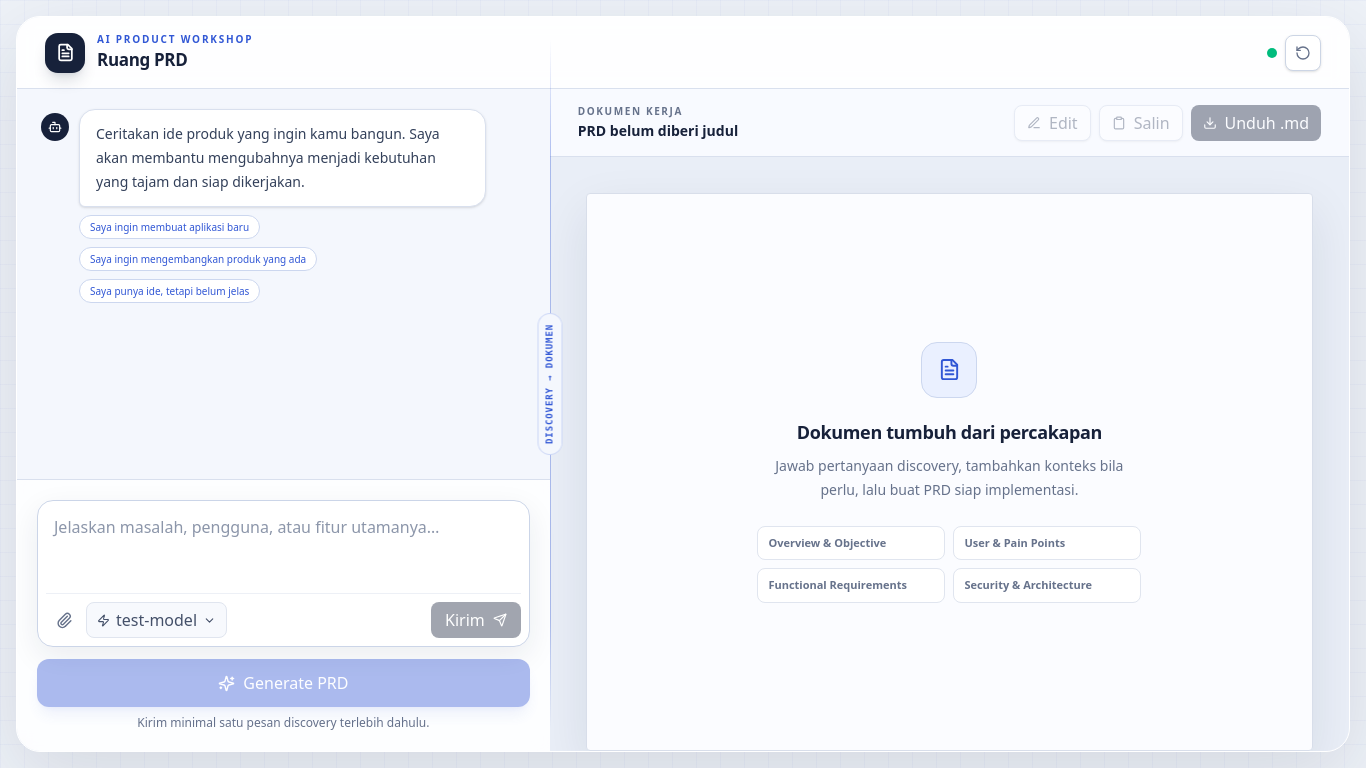
Test case: Ruang PRD › memindahkan respons PRD dari chat ke panel dokumen
The width and height of the screenshot is (1366, 768).
Type "Buatkan PRD sekarang" into the text box named "Pesan discovery" at (283,551), box [46,509,521,593]
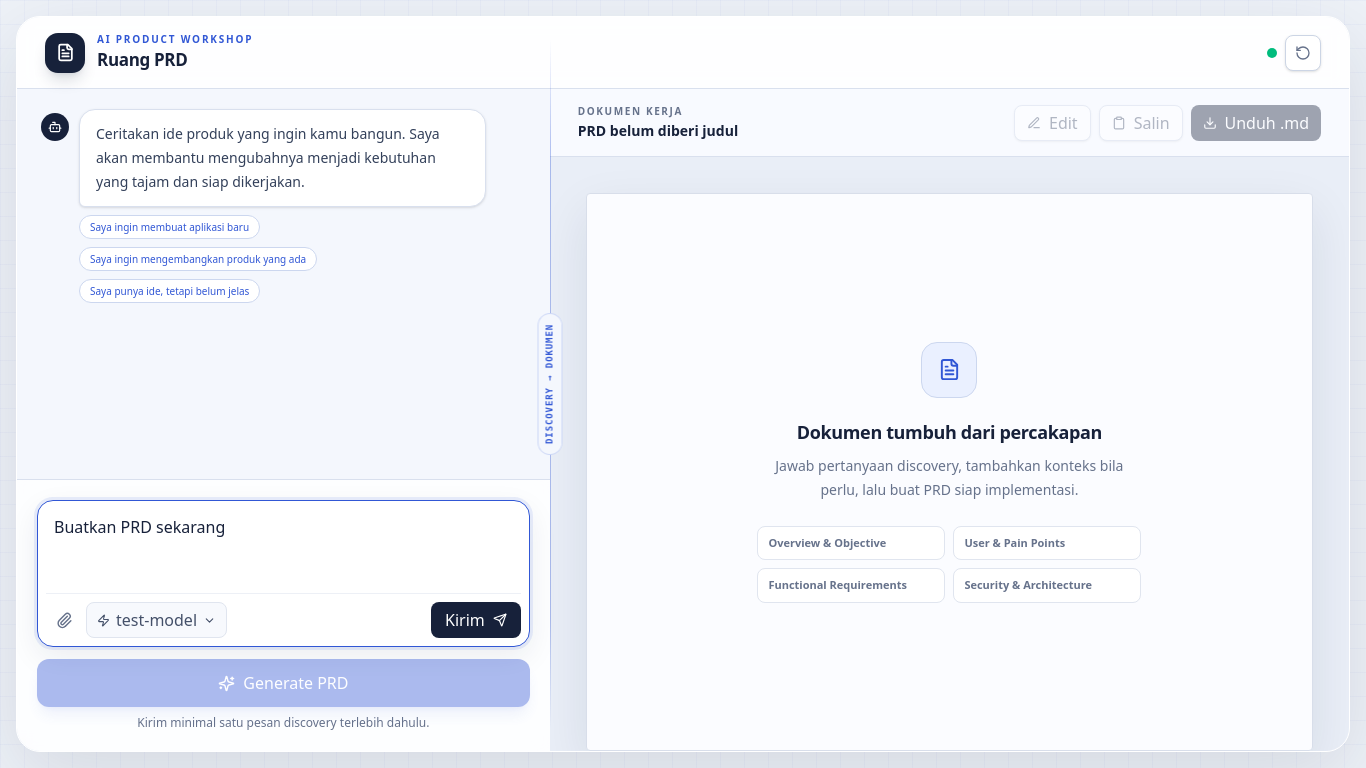
Click the button "Kirim" at (476,620), box [431,602,521,638]
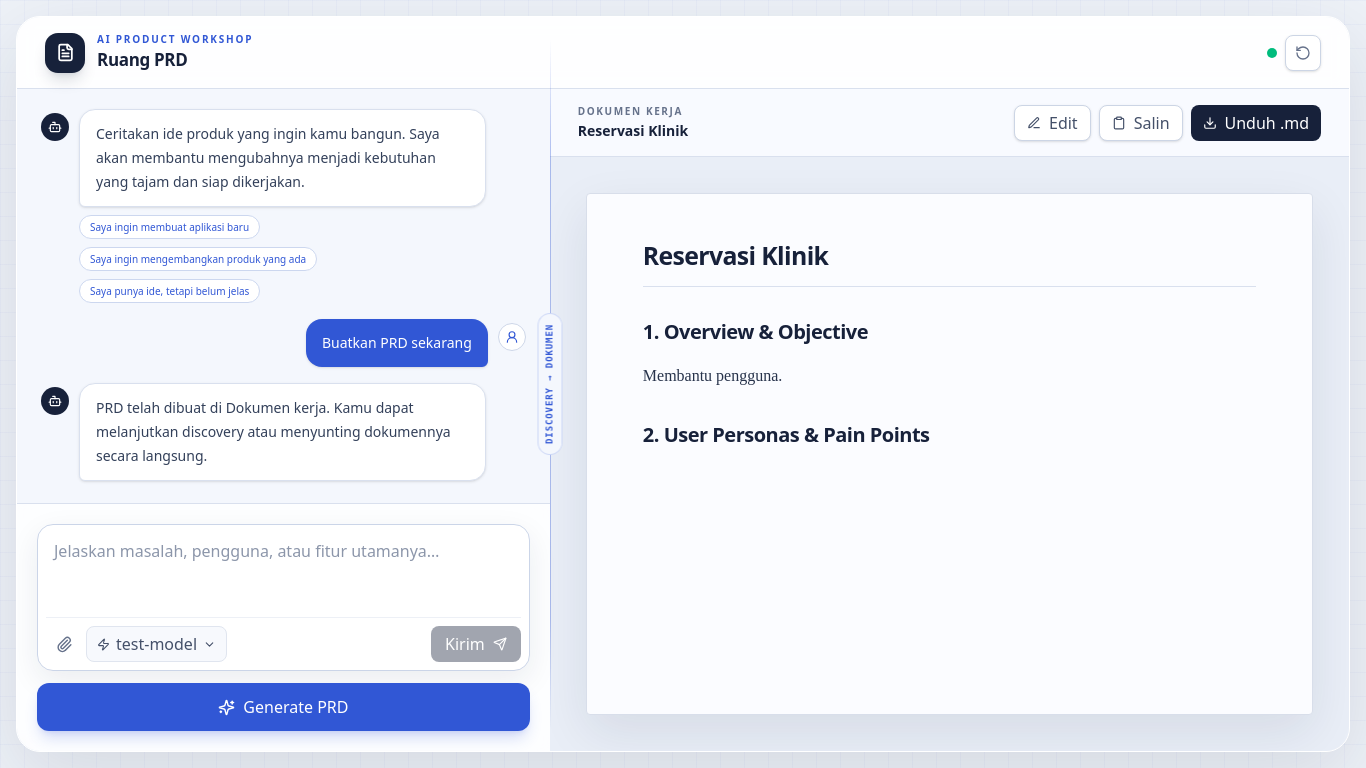
Expected: the element named "Percakapan discovery" does not show "Membantu pengguna.", [17,89,550,751]
Expected: the heading "1. Overview & Objective" is shown, [643,318,868,345]
